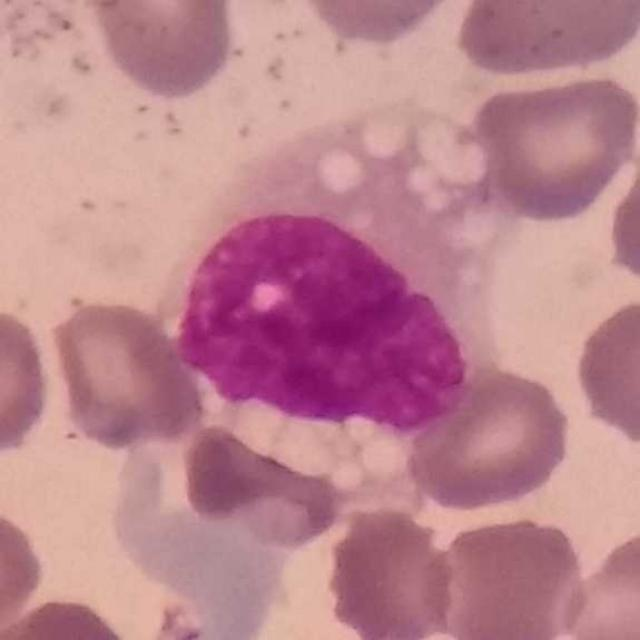mono: (163, 98, 502, 460)
